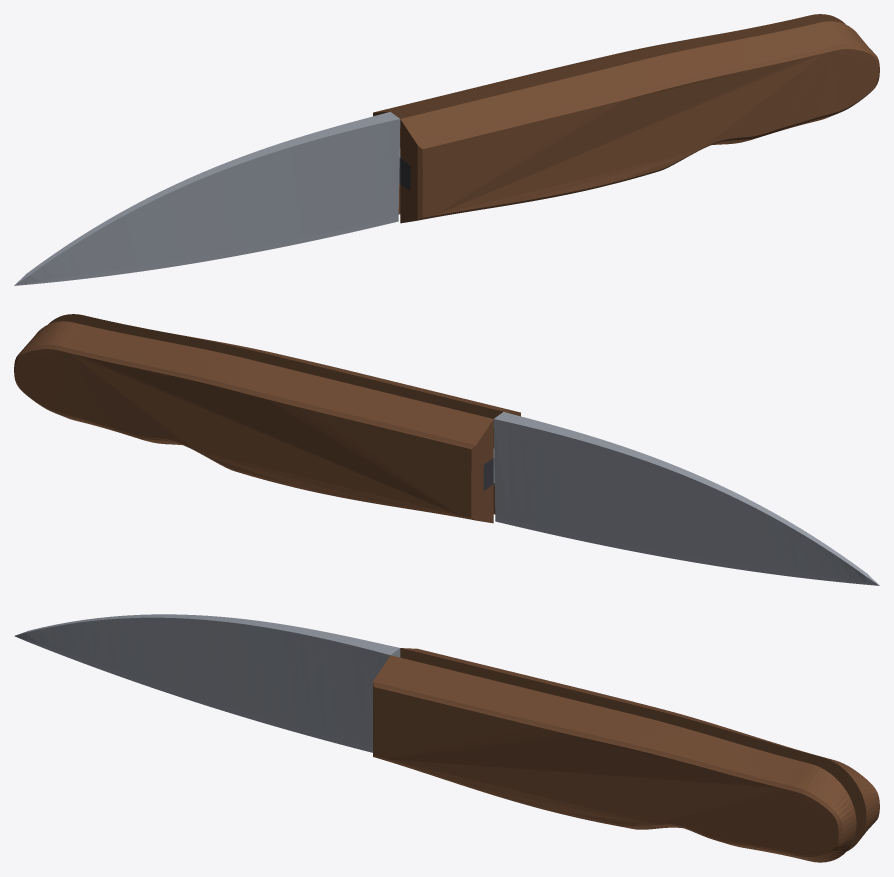
Rendered from beispiel-griff.obj.
The picture shows the model from 3 angles, top to bottom: view 1: azimuth 30°, elevation 25°; view 2: azimuth 150°, elevation 25°; view 3: azimuth 330°, elevation 25°; orthographic projection.
Parts seen in each view (by area): view 1: Griffschale, Klinge; view 2: Griffschale, Klinge; view 3: Griffschale, Klinge.
Part boxes in pixels (<box>): Griffschale: <box>373,14,879,223</box>; Klinge: <box>14,111,400,285</box>; Griffschale: <box>14,314,520,523</box>; Klinge: <box>493,411,879,585</box>; Griffschale: <box>373,648,879,862</box>; Klinge: <box>14,614,400,752</box>.
Size of the model in its own units: 222 by 29 by 22.
